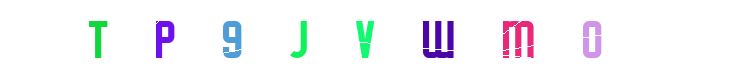9: (221, 0, 301, 80)
J: (224, 0, 304, 80)
M: (477, 0, 557, 80)
O: (512, 0, 592, 80)
P: (192, 0, 272, 80)
T: (127, 0, 207, 80)
V: (329, 0, 409, 80)
W: (397, 0, 477, 80)
